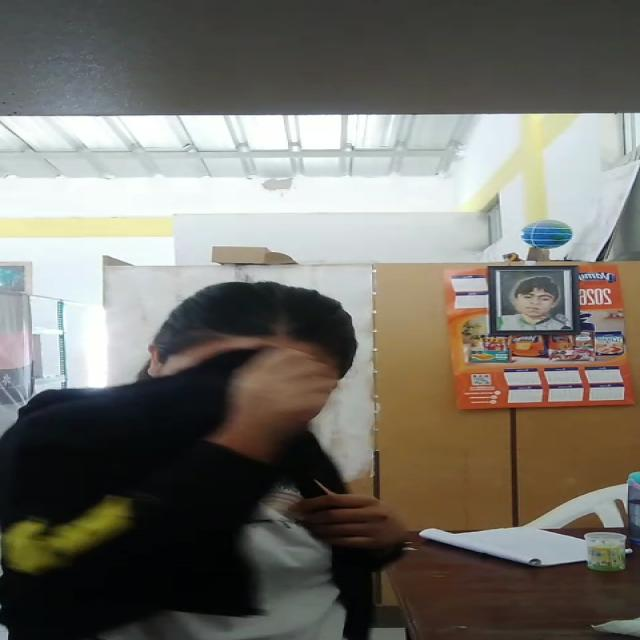8_ropa_rostro: (44, 346, 327, 458)
